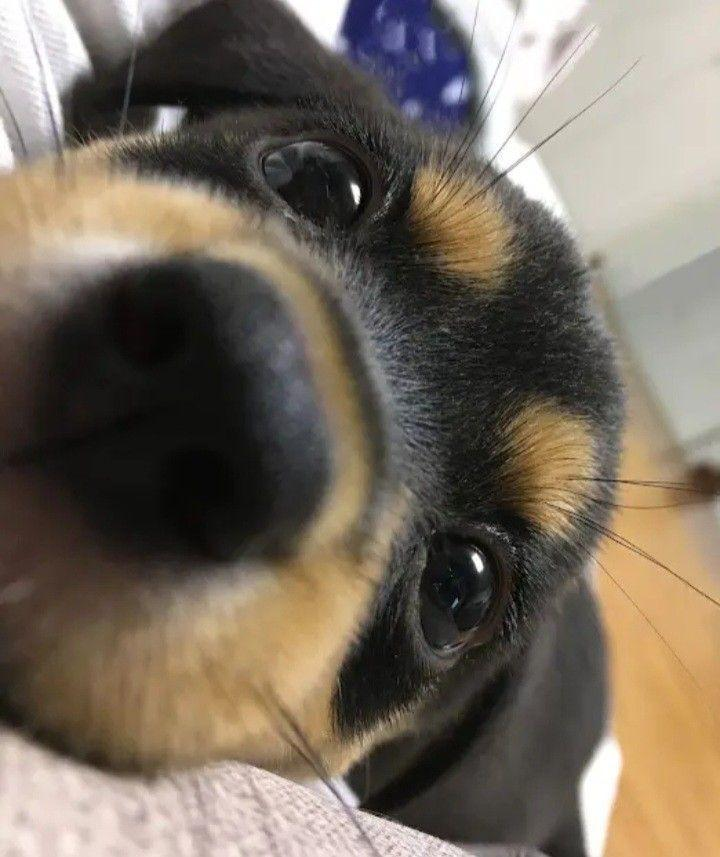adult_dog: (0, 0, 634, 842)
